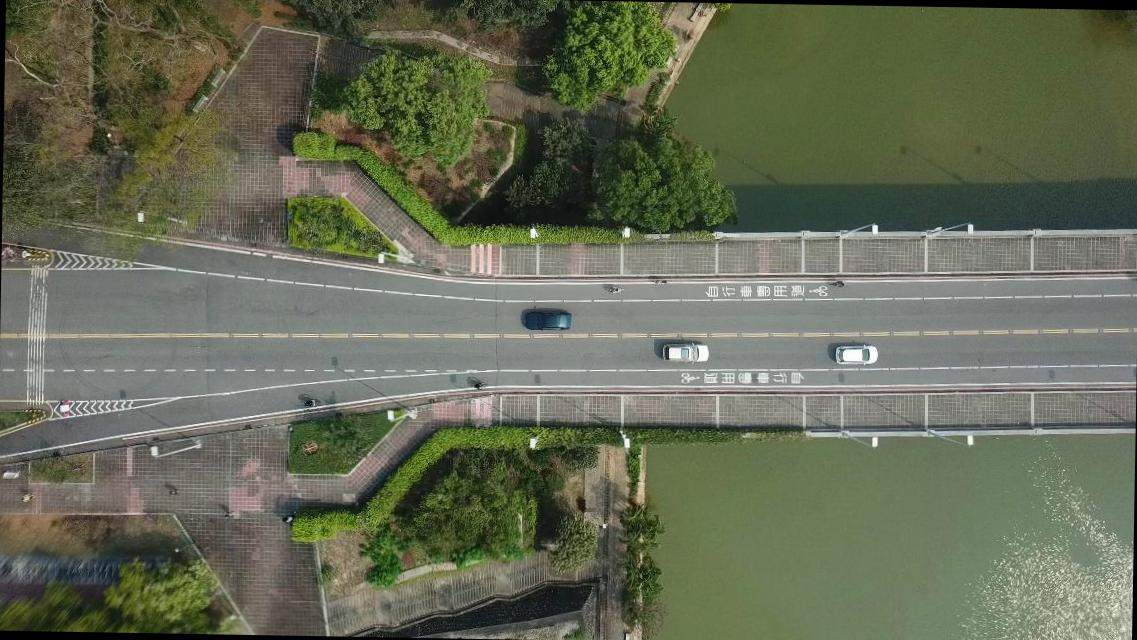vehicle: (661, 342, 708, 364), (834, 342, 877, 366), (522, 309, 570, 330)
